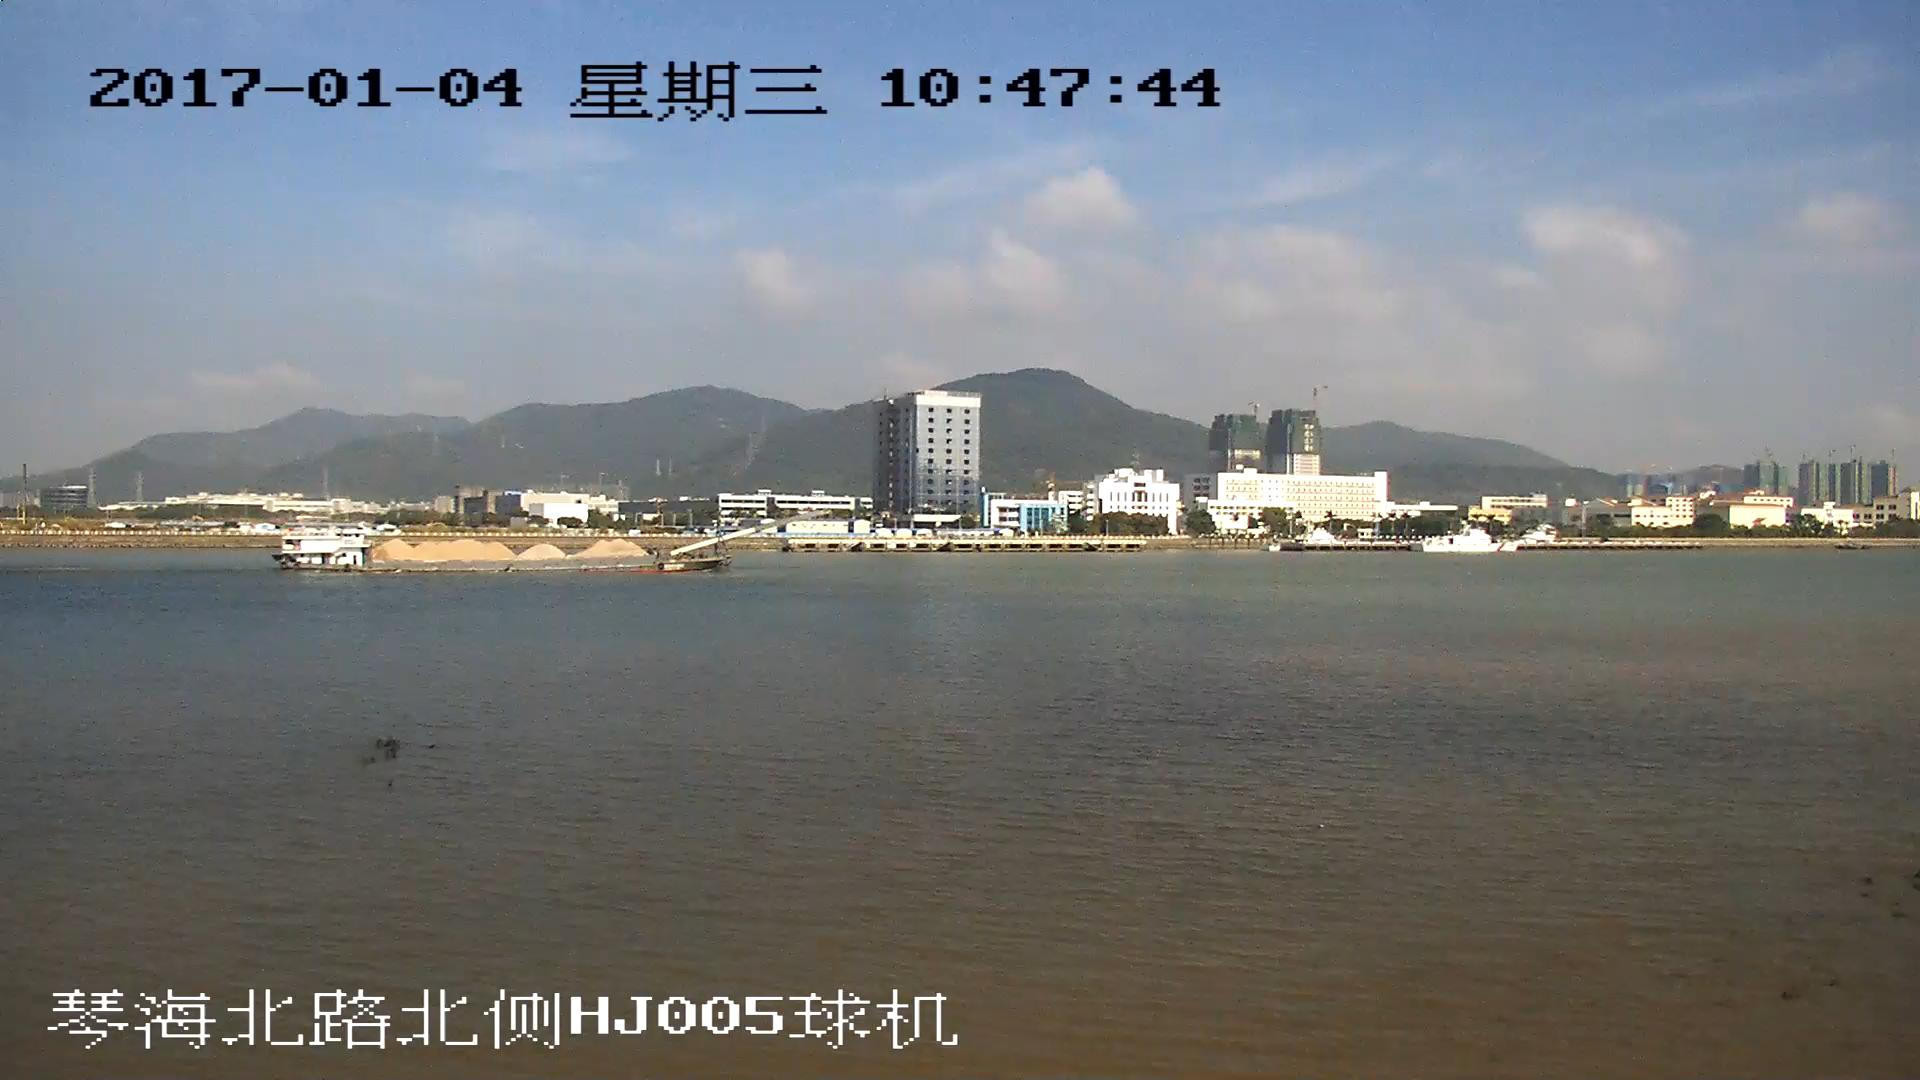ore carrier: (283, 511, 811, 574)
